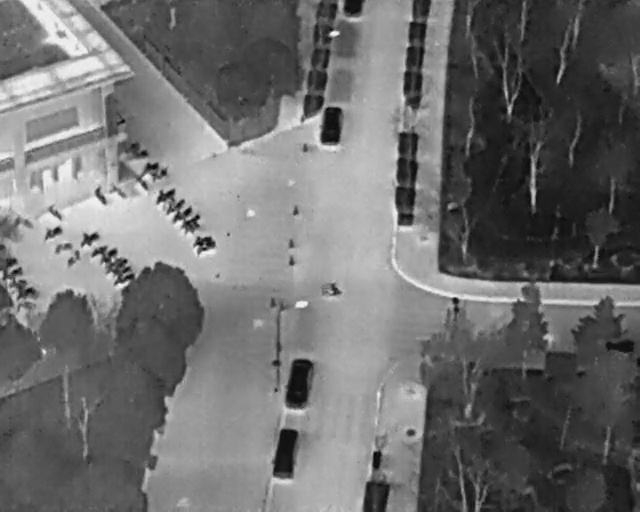Bicycle: (149, 180, 179, 207), (73, 225, 102, 252), (166, 201, 196, 226), (94, 242, 122, 268), (174, 208, 202, 232), (191, 236, 219, 259), (100, 253, 126, 277), (161, 194, 188, 217), (186, 229, 213, 251), (0, 262, 26, 284), (49, 236, 75, 258), (90, 181, 111, 208), (139, 153, 163, 176), (146, 163, 171, 185), (39, 222, 65, 243), (44, 201, 66, 225), (111, 269, 138, 288), (86, 240, 110, 261), (125, 144, 150, 164), (107, 180, 129, 202), (62, 247, 84, 268), (179, 217, 202, 237), (120, 137, 143, 156), (111, 260, 134, 279), (12, 284, 37, 301), (319, 281, 341, 299), (5, 277, 29, 291), (0, 254, 19, 266), (0, 243, 8, 252)
Car: (269, 424, 302, 482), (283, 355, 315, 412), (318, 103, 344, 147), (342, 0, 364, 18)
